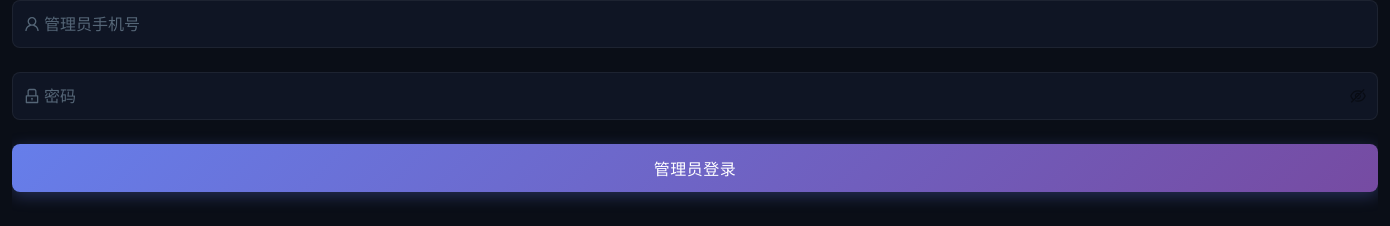
Scenario: LoginForm › rejects empty fields with required-field messages (spec §US1 AS-4)
Click the button "管理员登录" at (695, 168), box [12,144,1378,192]
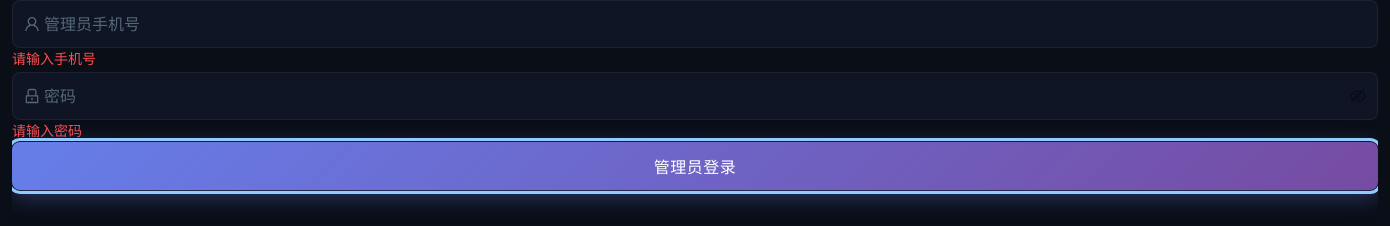
Check: the text "请输入手机号" is shown, box [12,50,96,67]
Check: the text "请输入密码" is shown, box [12,122,82,139]
